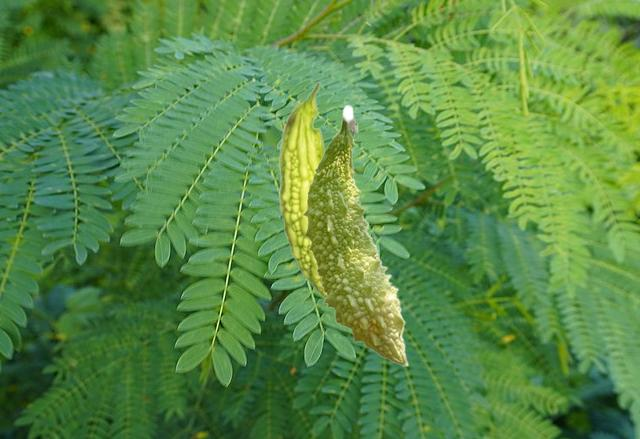ampalaya: (301, 104, 410, 367), (276, 79, 325, 299)
